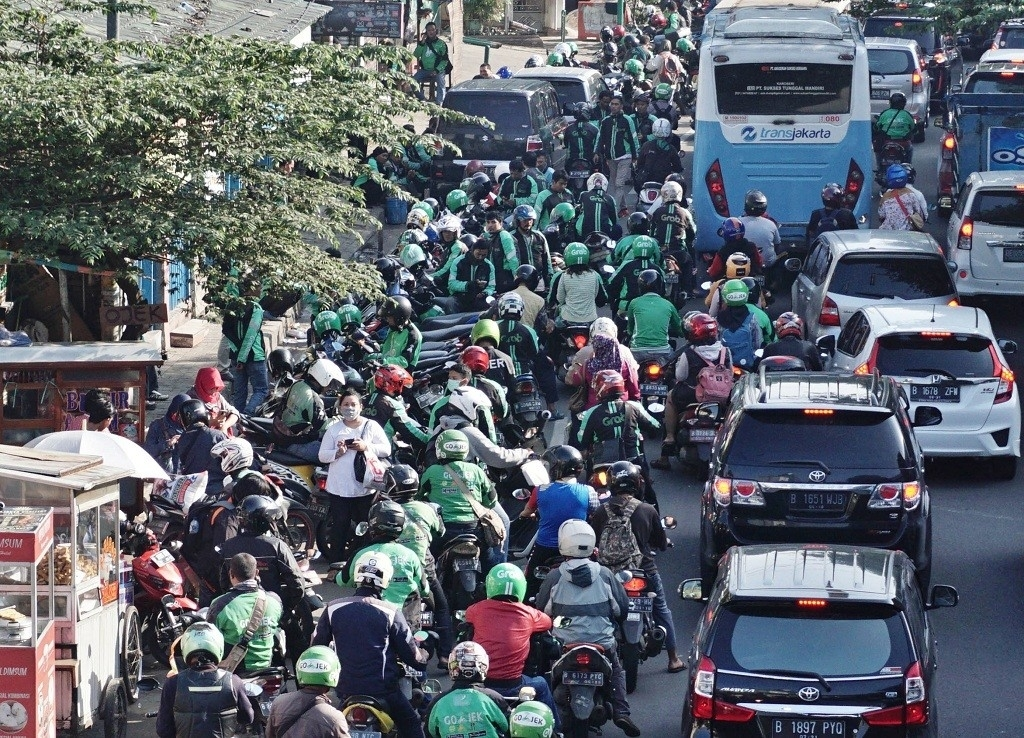plate: (770, 714, 854, 737), (789, 491, 847, 510), (910, 382, 960, 404), (563, 671, 604, 688), (639, 383, 667, 396), (453, 560, 482, 571), (691, 431, 715, 443), (513, 403, 541, 411)
